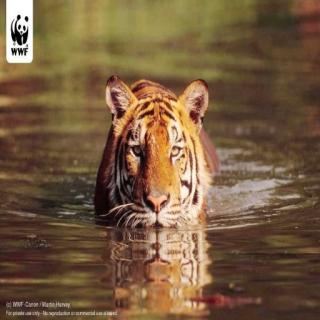Tiger: (84, 67, 228, 240)
